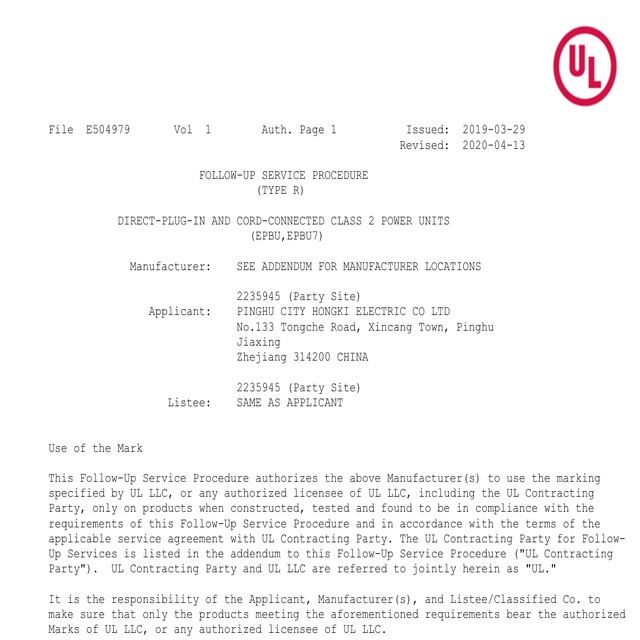ul: (549, 24, 617, 107)
